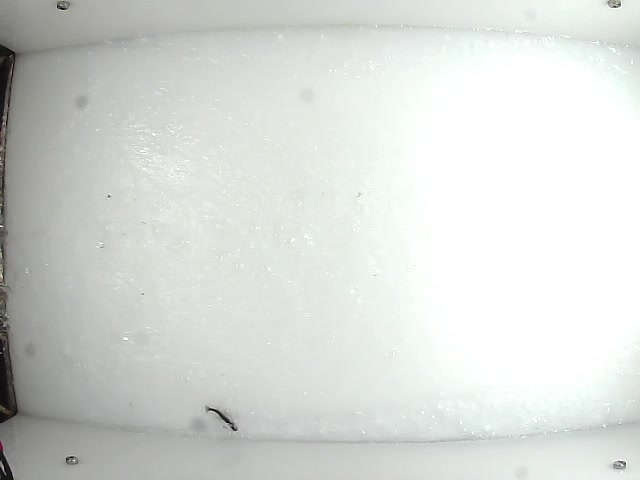fish: (202, 403, 241, 434)
